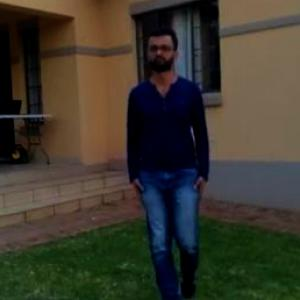follow: (122, 15, 211, 283)
